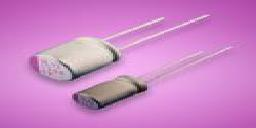Electrolytic-Capacitor: (69, 44, 246, 120), (28, 7, 212, 76)
